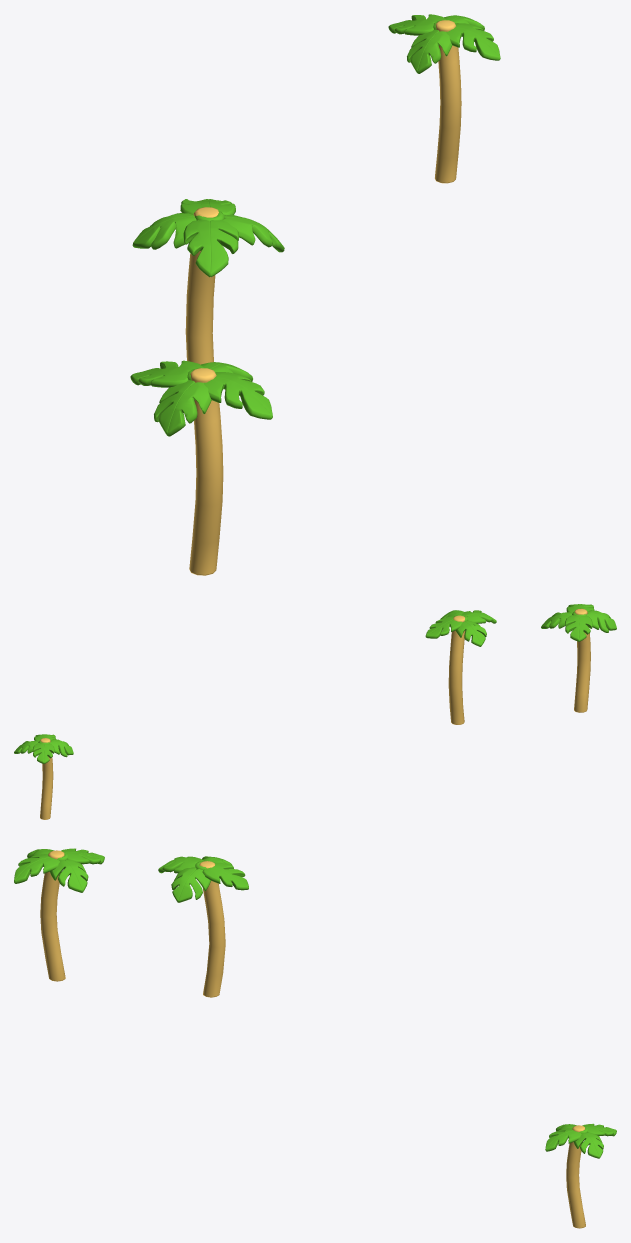
Rendered from palmeras_Nope.fbx.
3 renders of one model, top to bottom at view 1: azimuth 30°, elevation 25°; view 2: azimuth 150°, elevation 25°; view 3: azimuth 270°, elevation 25°, orthographic. The views are drawn at different scales.
Parts seen in each view (by area): view 1: polySurface1561; view 2: polySurface1561; view 3: polySurface1561.
Part boxes in pixels (left/top/right/bottom): polySurface1561: left=130, top=14, right=500, bottom=575; polySurface1561: left=14, top=604, right=616, bottom=819; polySurface1561: left=14, top=848, right=616, bottom=1228.
Size of the model in its own units: 5627 by 2229 by 6152.
